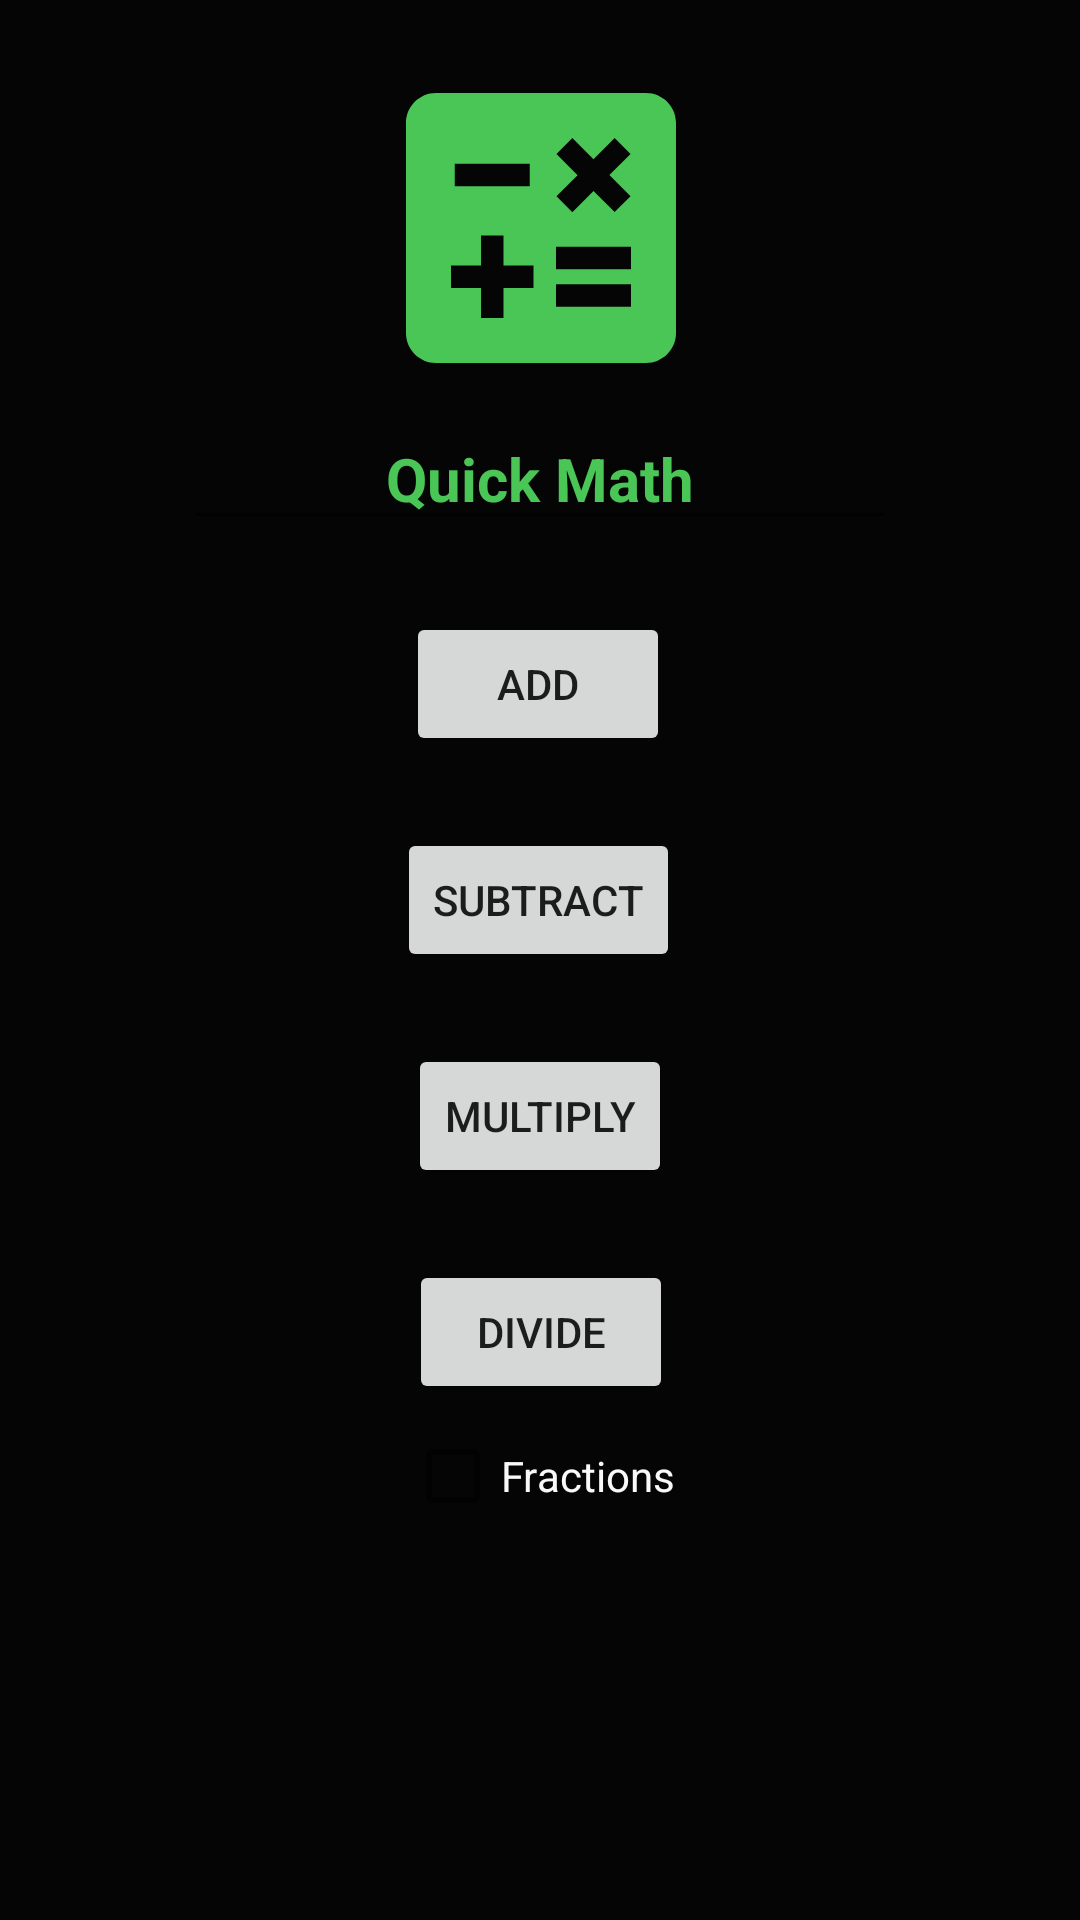

Point at icon controls on the screen. Image size 1080px×1920px, points as (x=x, y=y).
calculate: (x=541, y=228)
